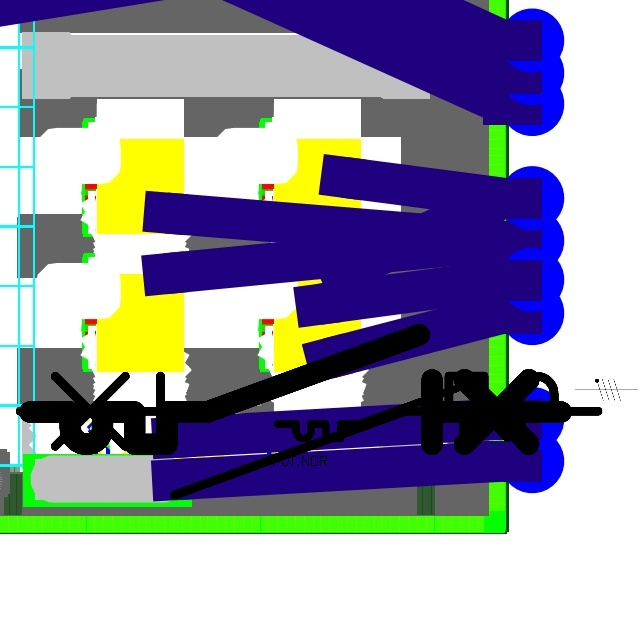interruptor_termomagnetico: (5, 361, 613, 510), (16, 321, 575, 458), (271, 382, 529, 445)
